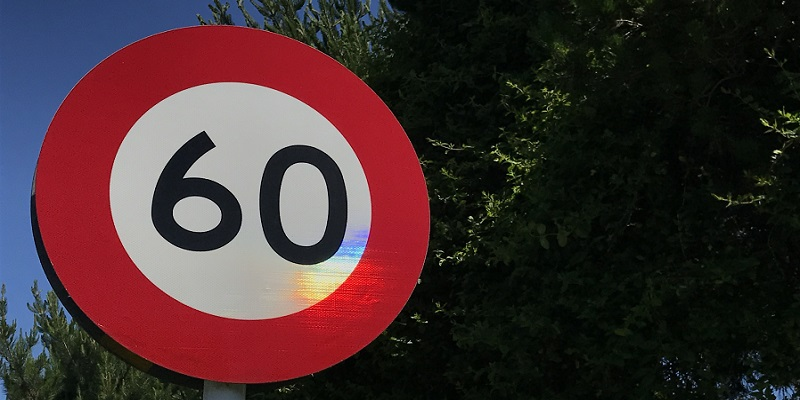Speed_limit_60km: (34, 24, 432, 374)
